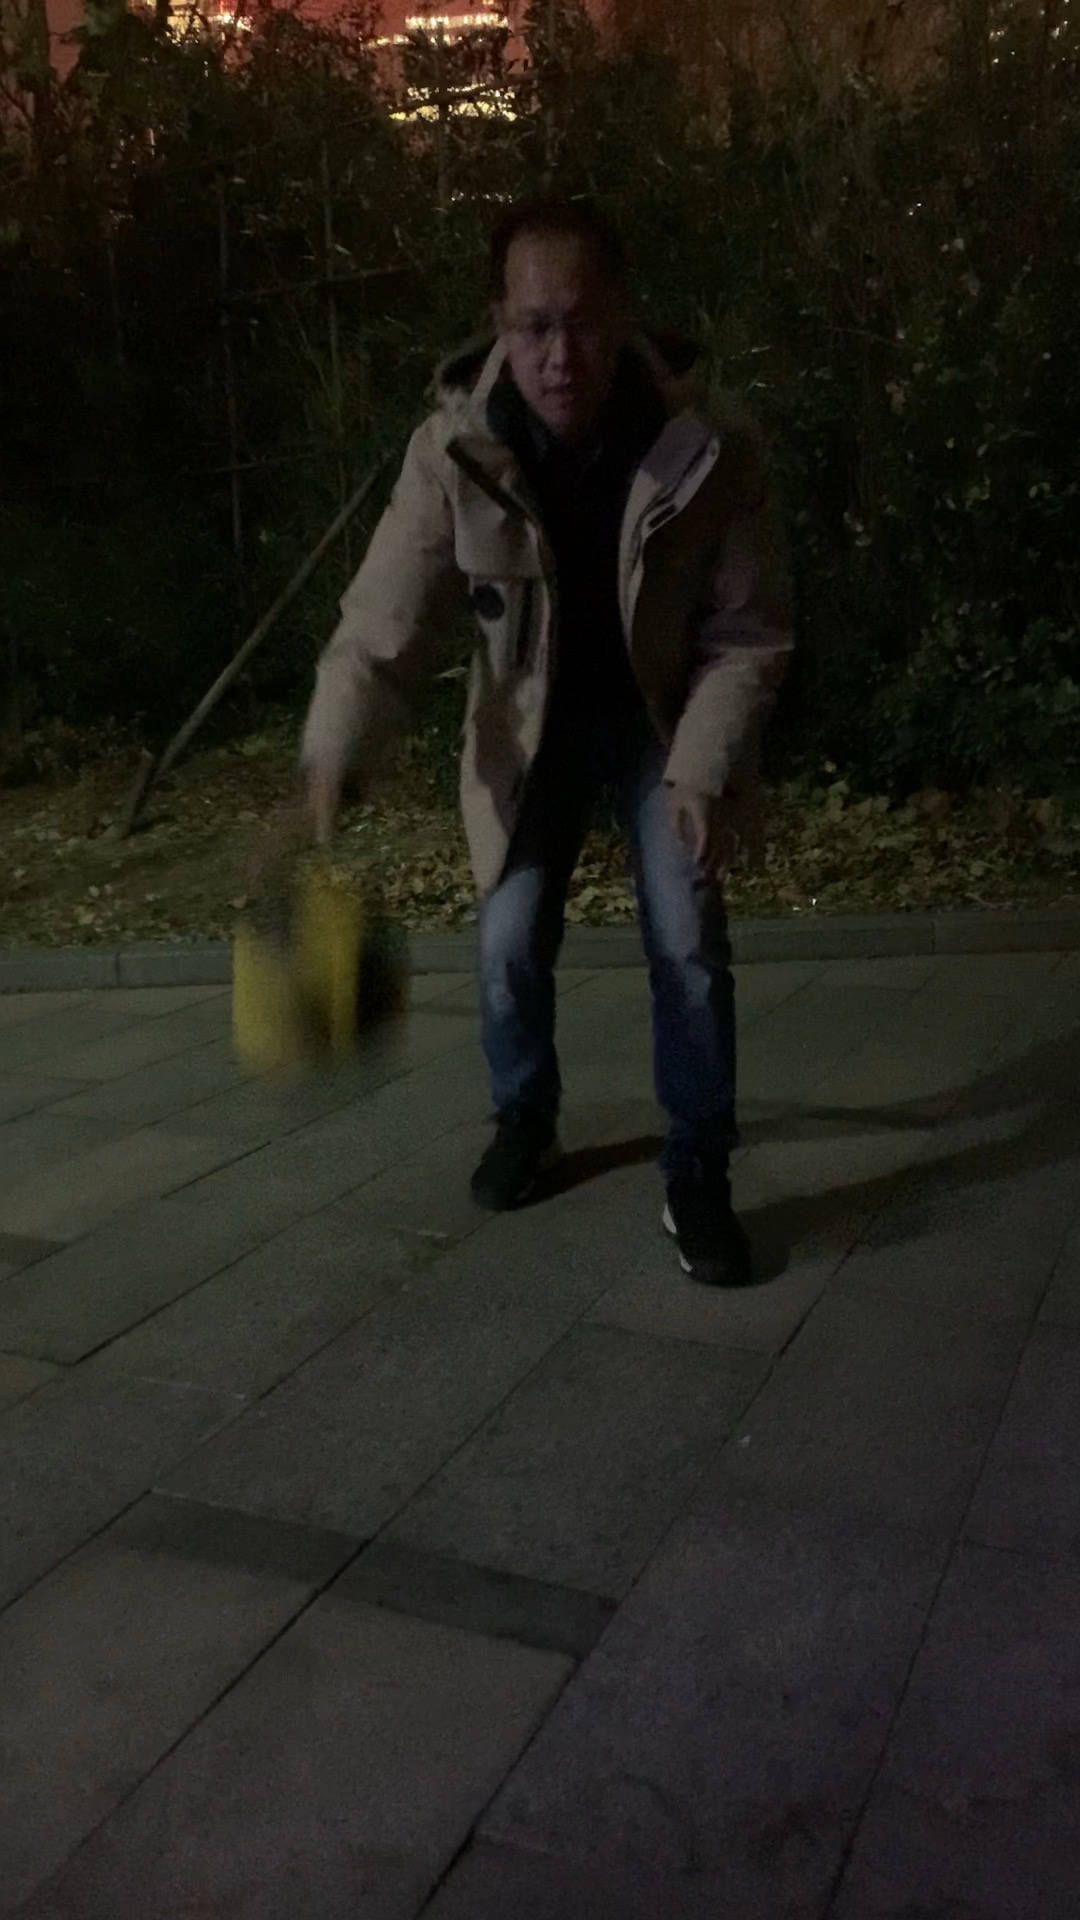ball: (225, 882, 426, 1073)
